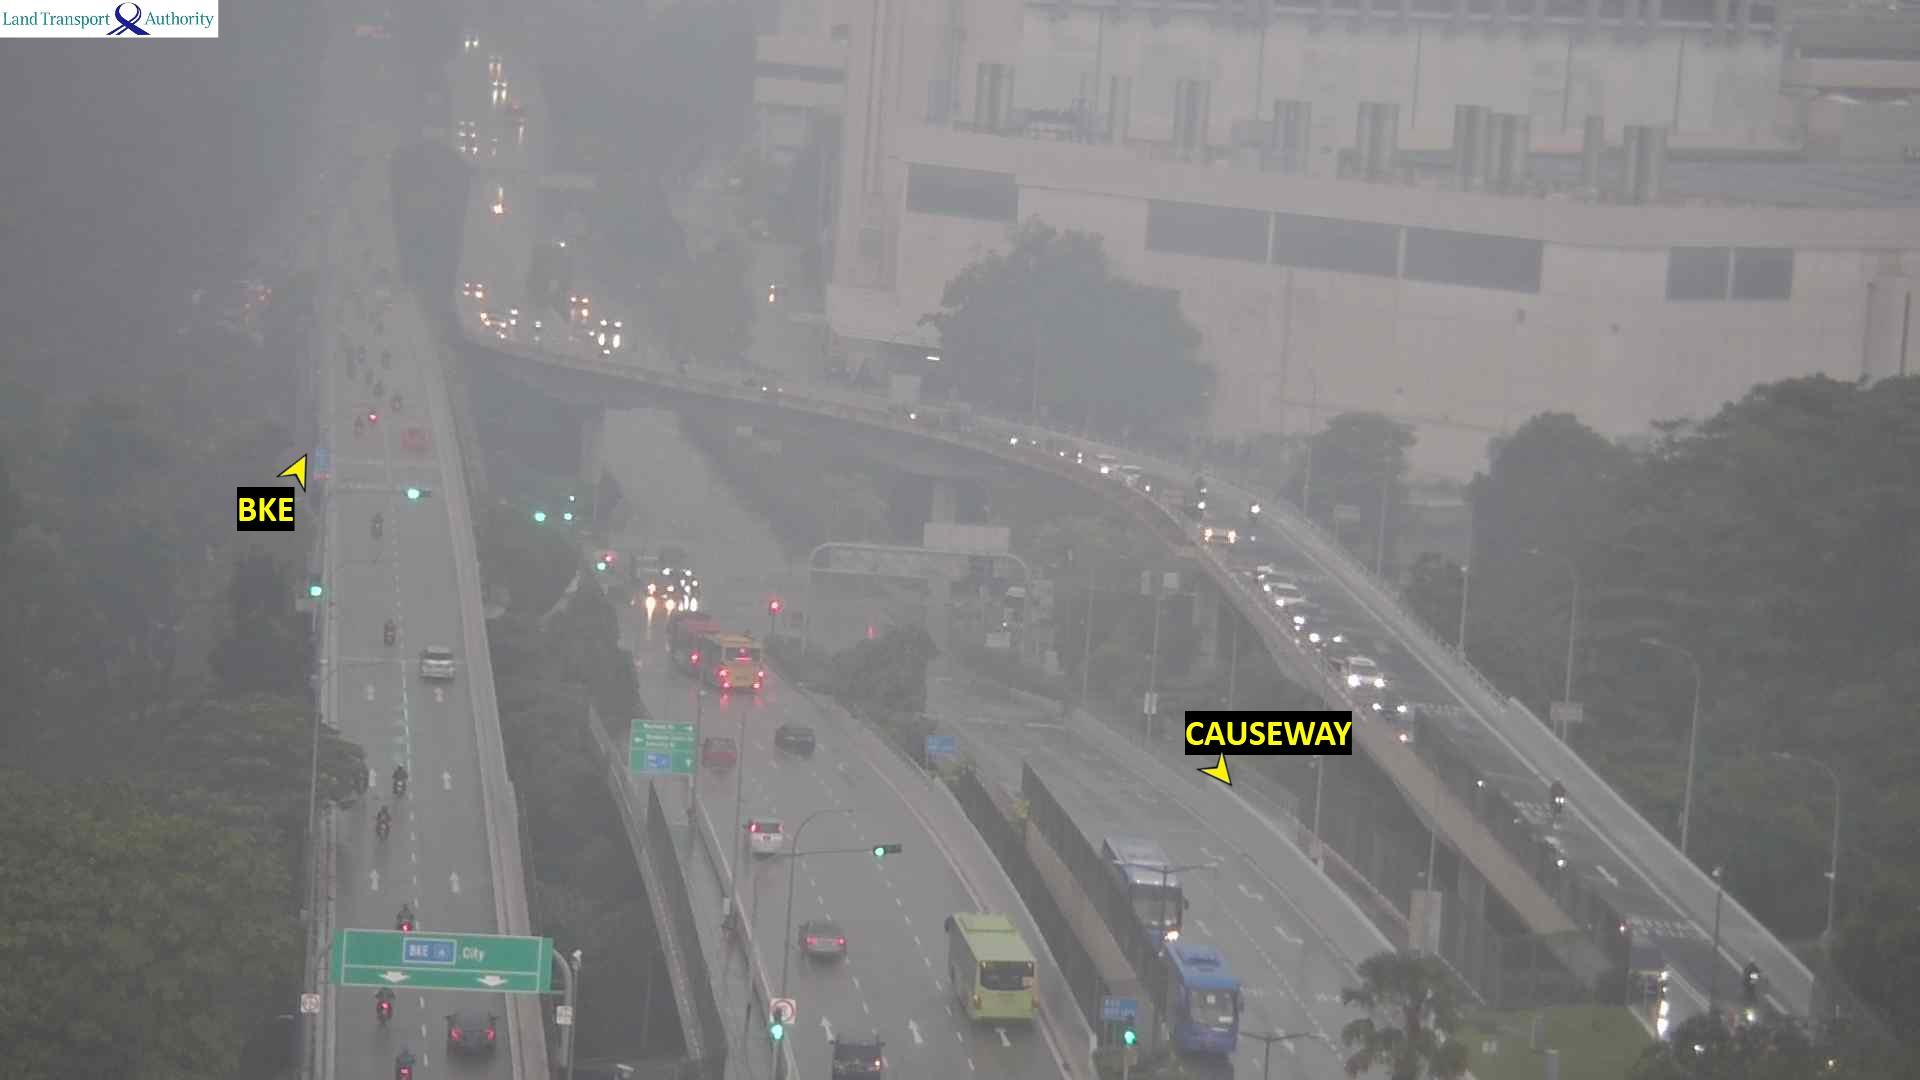vehicle-causeway-johor: (1093, 835, 1182, 931), (1159, 948, 1238, 1048), (1623, 939, 1669, 998), (1332, 653, 1390, 692), (1147, 473, 1204, 508), (1199, 518, 1232, 554), (1303, 618, 1337, 651), (483, 306, 518, 336), (1269, 584, 1307, 611), (1042, 434, 1076, 458), (1367, 696, 1400, 720), (1547, 775, 1568, 810), (1743, 959, 1762, 997), (463, 274, 489, 299), (522, 322, 545, 347), (1081, 454, 1113, 469), (1002, 433, 1033, 448), (1249, 497, 1262, 526), (1117, 467, 1143, 481)
vehicle-causeway-singapore: (947, 915, 1038, 1006), (443, 1022, 497, 1058), (796, 926, 848, 963), (836, 1039, 881, 1077), (749, 819, 786, 857), (781, 724, 816, 753), (419, 654, 452, 680), (373, 988, 390, 1026), (709, 746, 737, 769), (398, 1059, 423, 1080), (397, 1048, 411, 1080), (385, 621, 401, 647), (375, 806, 388, 837), (394, 903, 413, 926), (369, 514, 384, 539), (397, 766, 406, 799), (361, 410, 375, 431), (394, 396, 404, 417)
